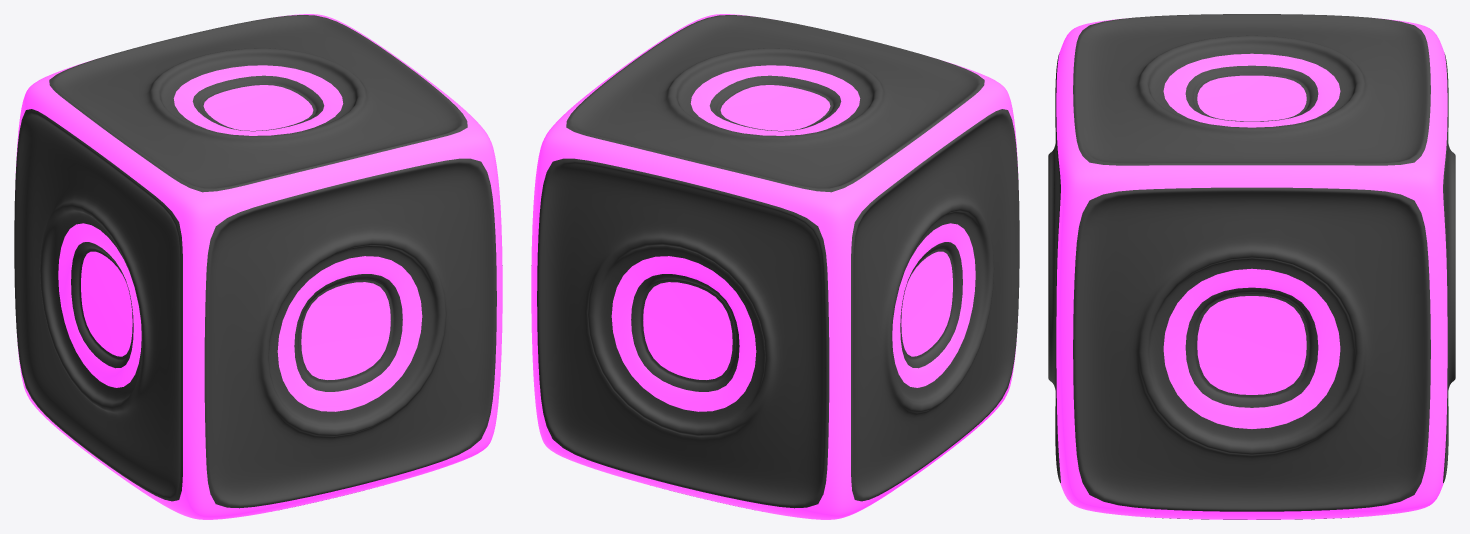
Rendered from cubetry1.fbx.
The picture shows the model from 3 angles, left to right: view 1: azimuth 30°, elevation 25°; view 2: azimuth 150°, elevation 25°; view 3: azimuth 270°, elevation 25°; orthographic projection. The views are drawn at different scales.
Parts seen in each view (by area): view 1: Cube; view 2: Cube; view 3: Cube.
Part boxes in pixels (box(x1,y1,x2,y2)): Cube: box(14, 14, 502, 519); Cube: box(531, 14, 1019, 519); Cube: box(1048, 14, 1455, 519).
Bounding box in the file's own units: 206 × 206 × 206.
